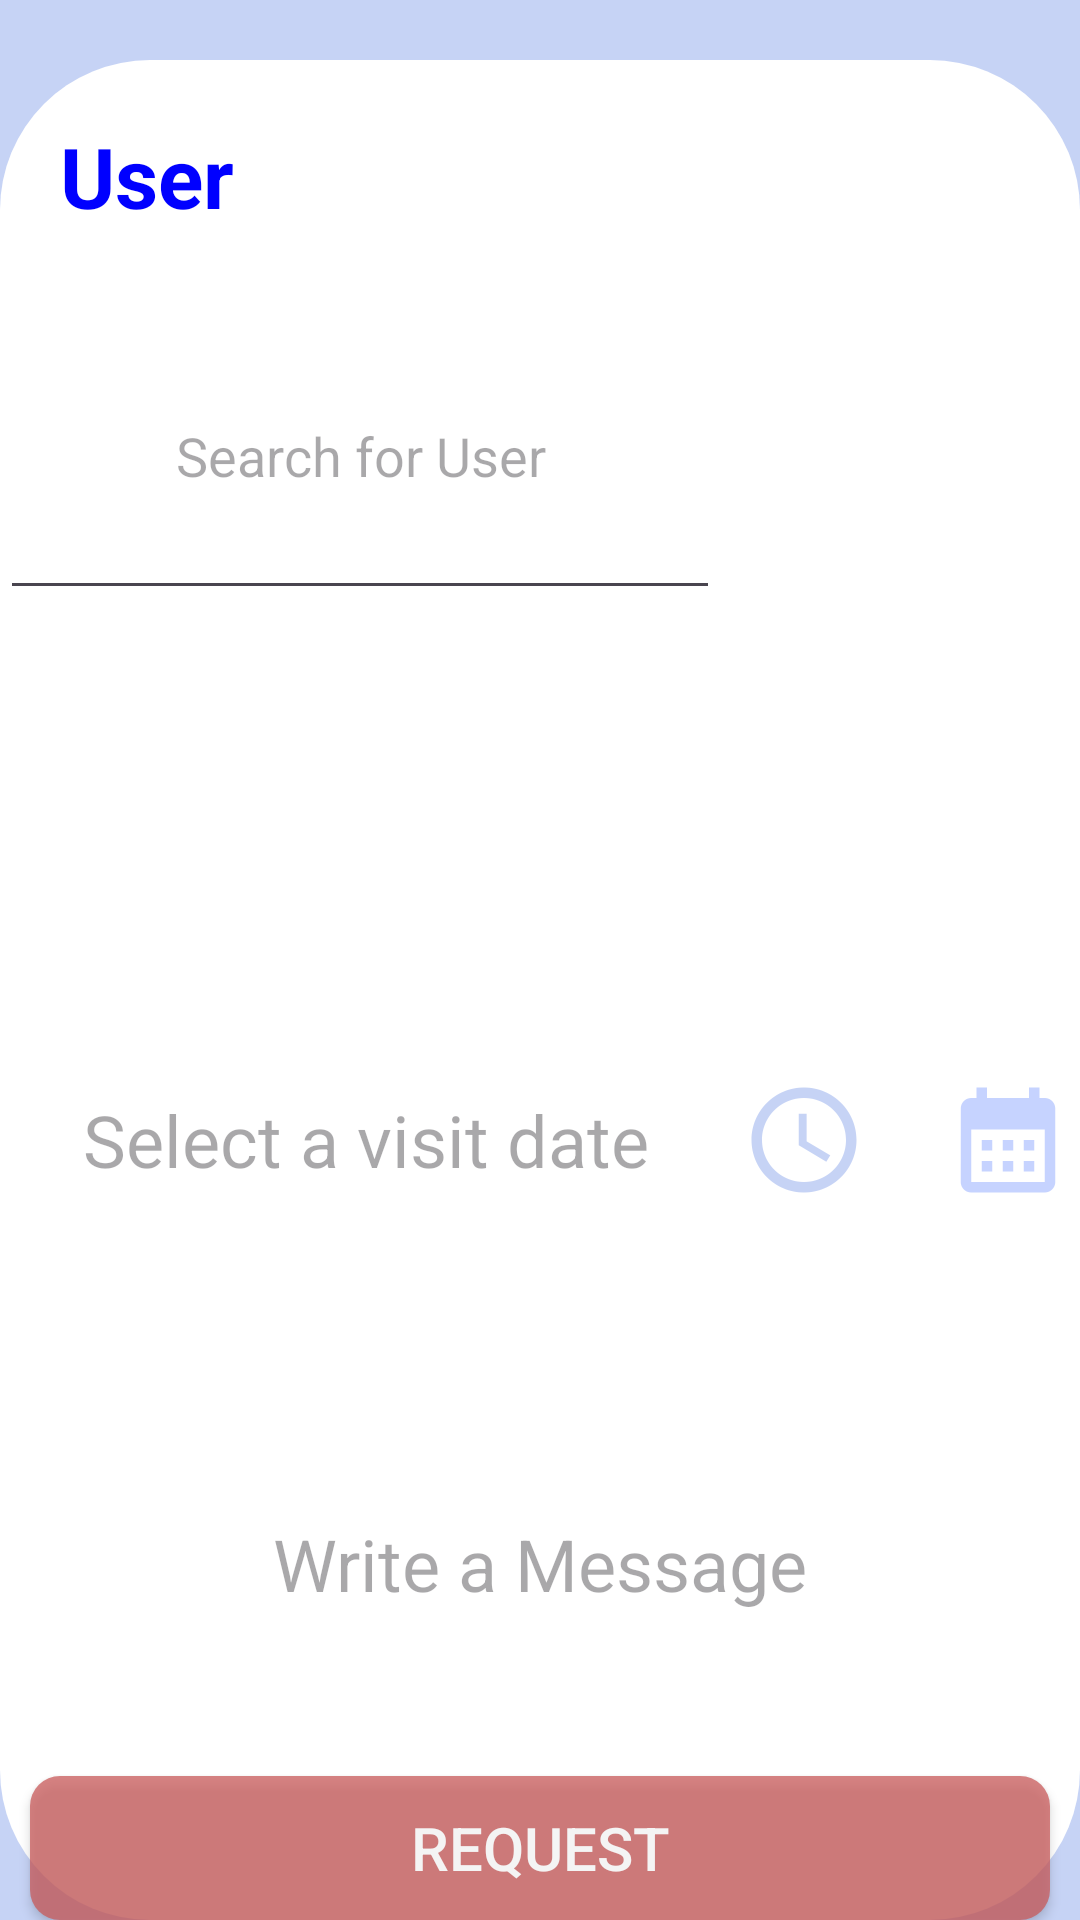

Icons on this 1080w x 1920h Android screen, each with its box as (x1,y1,x2,y2):
calender: (961,1087,1055,1193)
time: (751,1087,857,1193)
